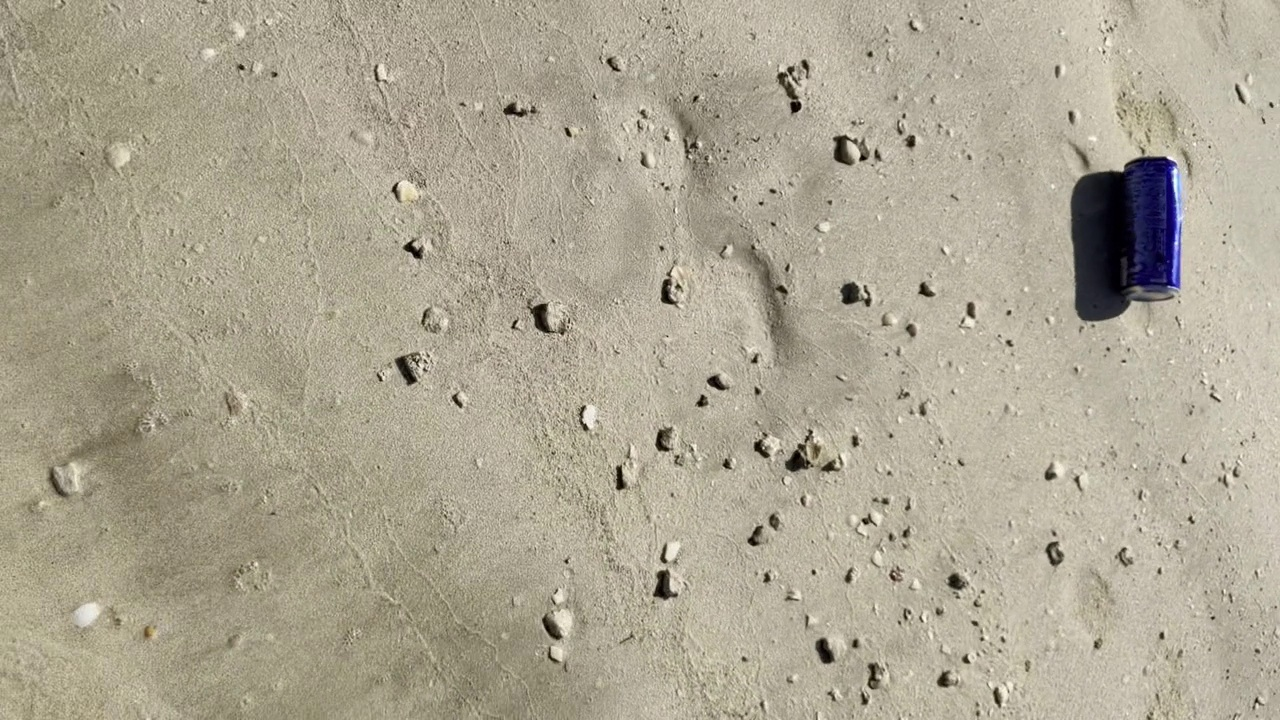debris: (1113, 140, 1188, 317)
